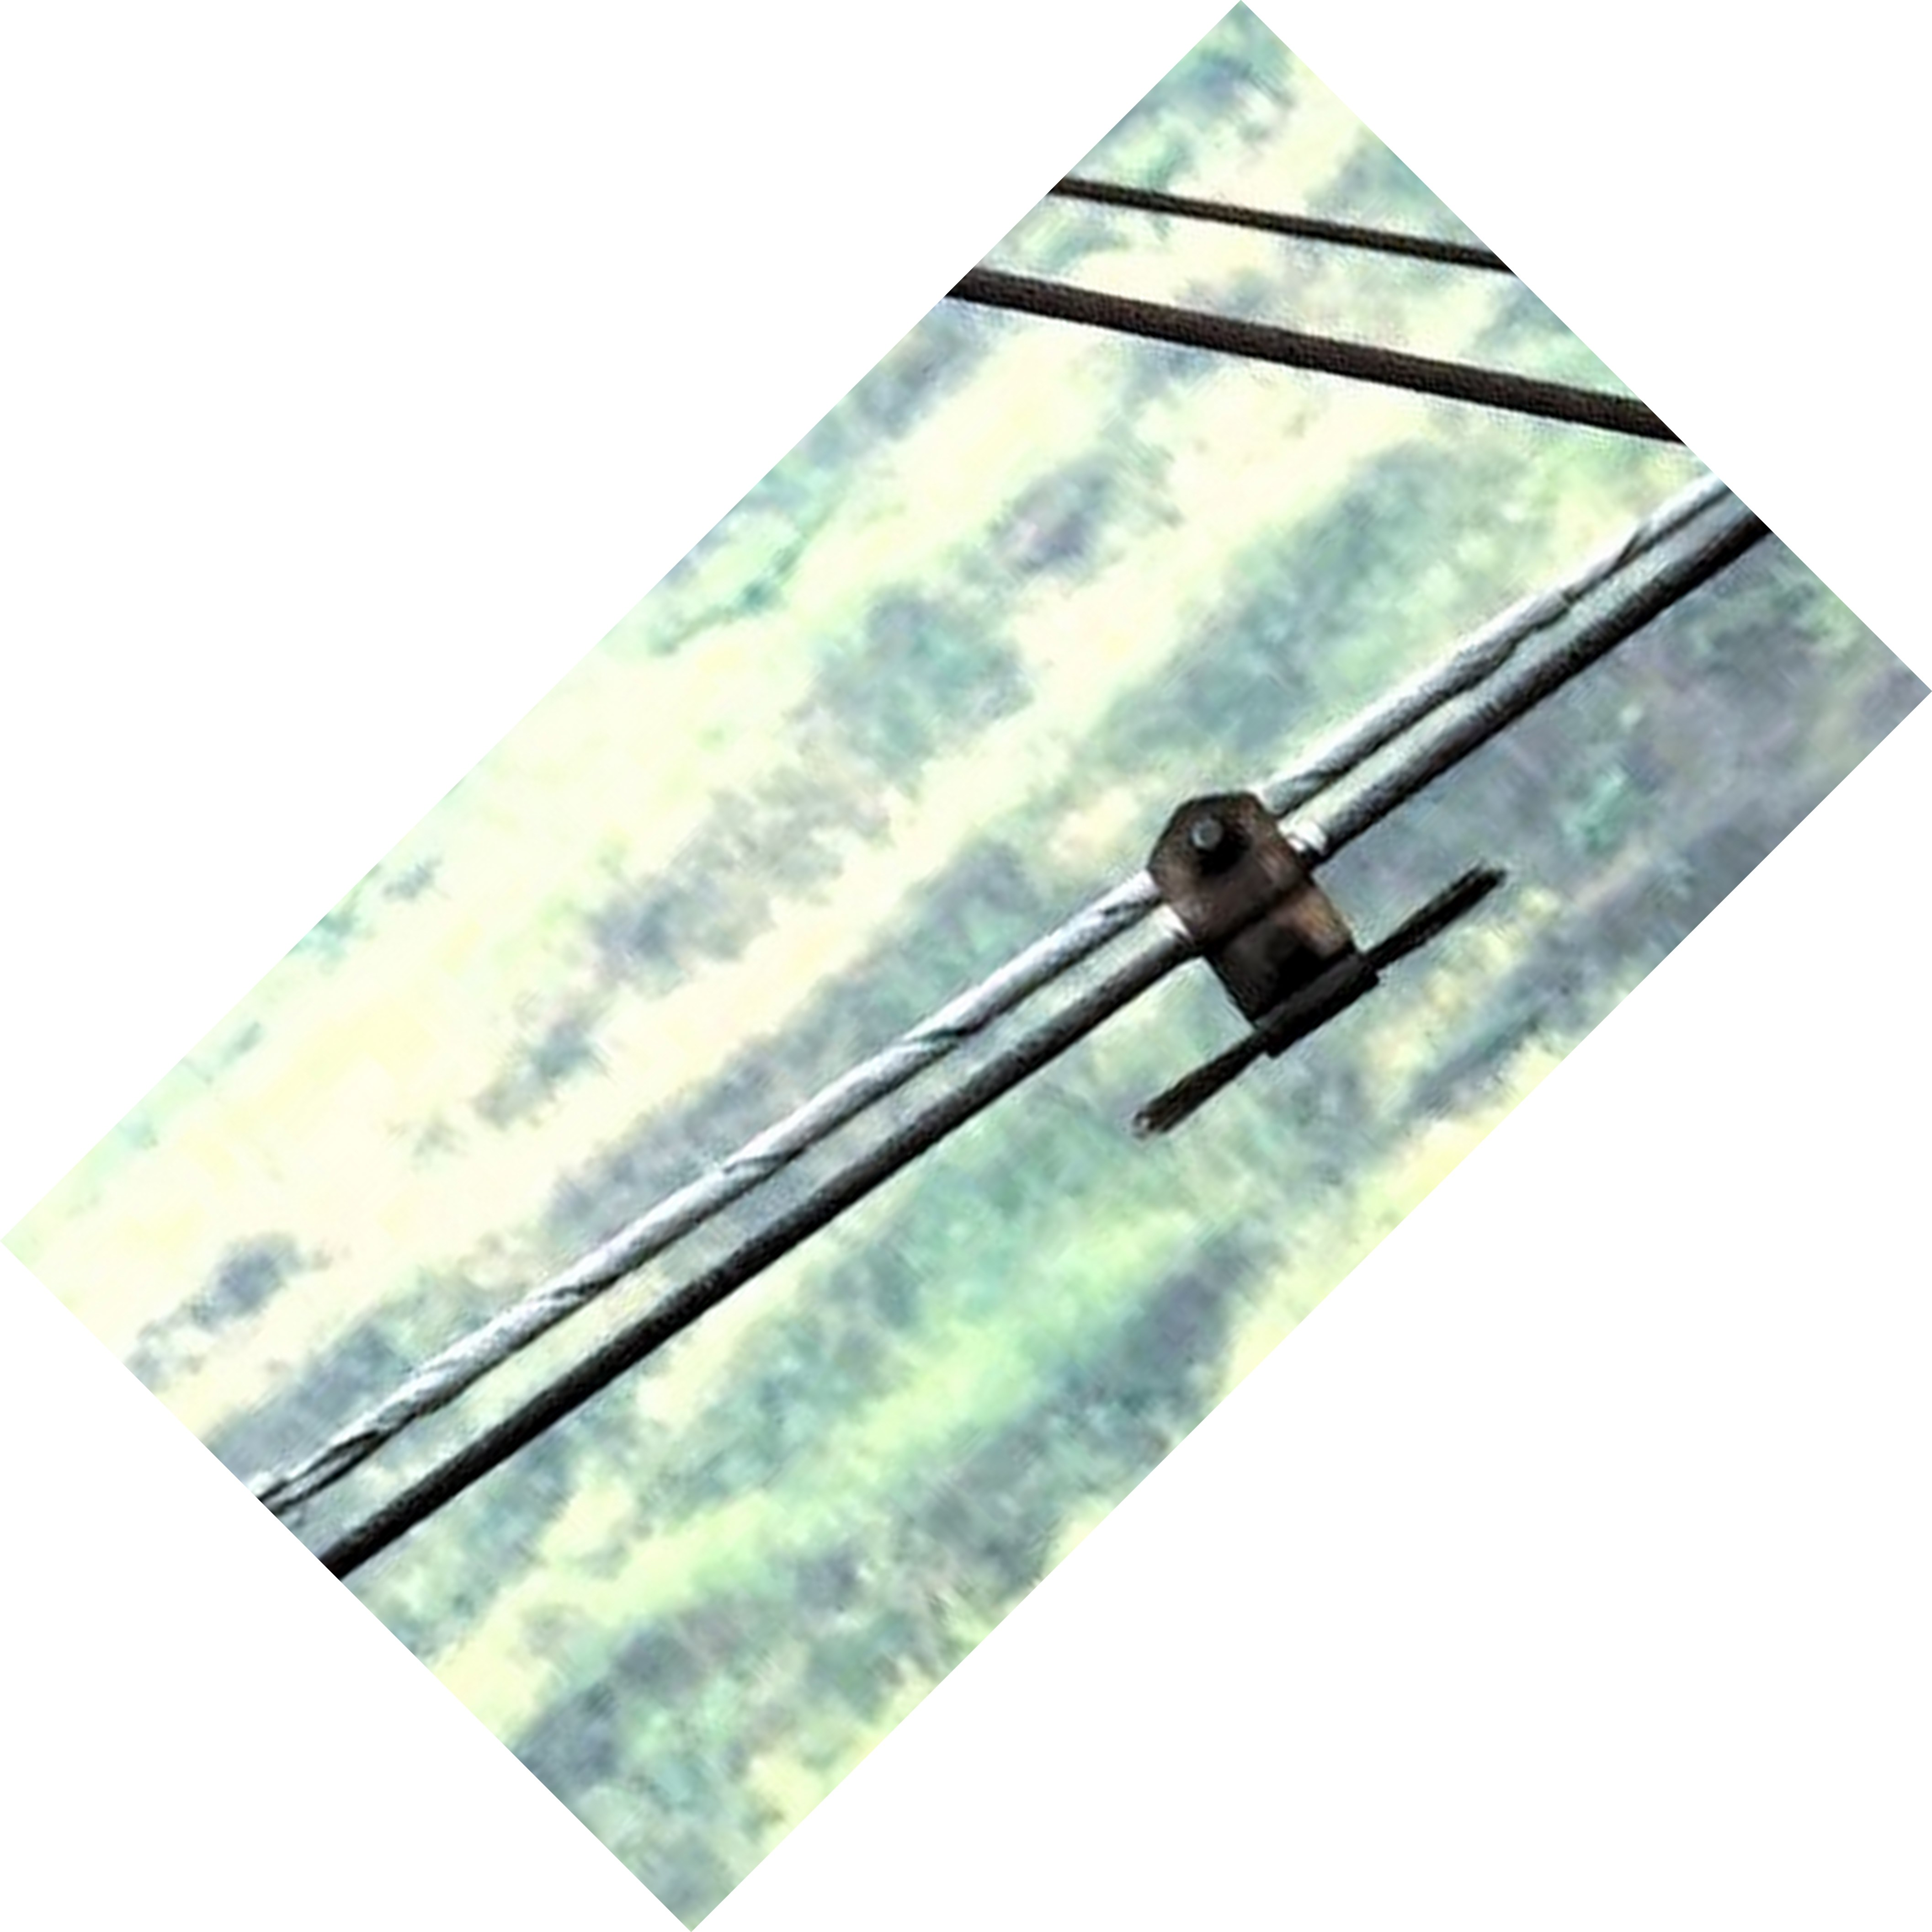Damage of shockproof hammer: (1079, 747, 1555, 1171)
